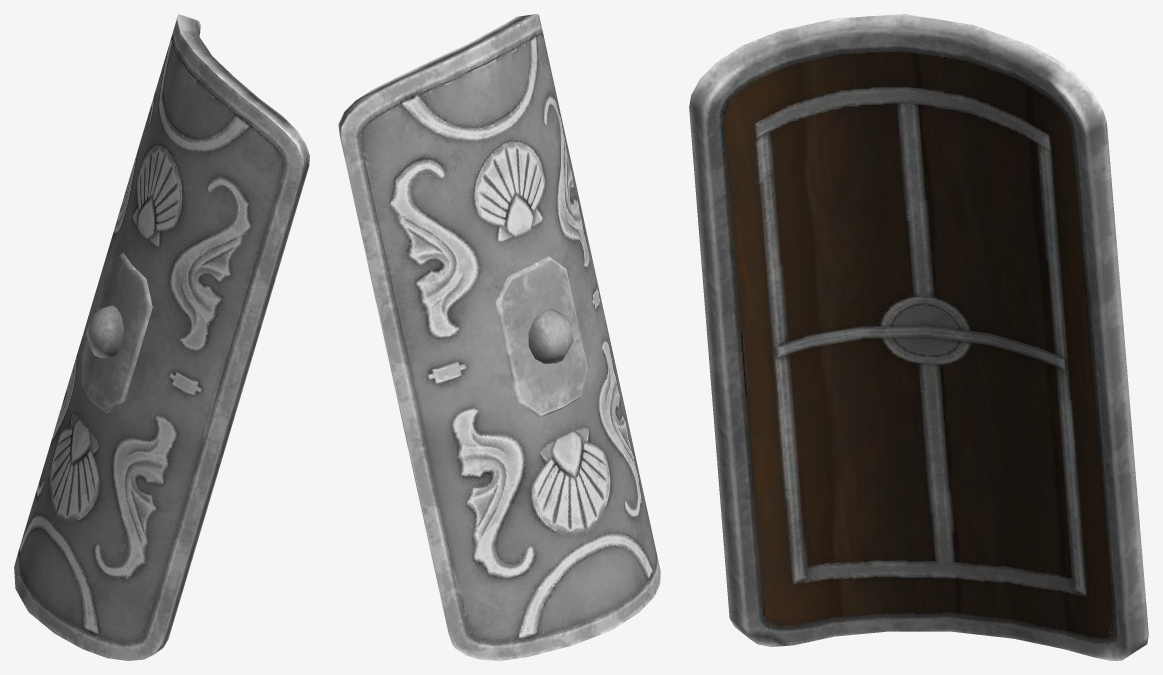
File: shield-ironshields.glb
The picture shows the model from 3 angles, left to right: view 1: azimuth 30°, elevation 25°; view 2: azimuth 150°, elevation 25°; view 3: azimuth 270°, elevation 25°; orthographic projection. The views are drawn at different scales.
Bounding box in the file's own units: 0.4394 × 1.02 × 0.6068.
Materials: 1 (1 with a texture image).
